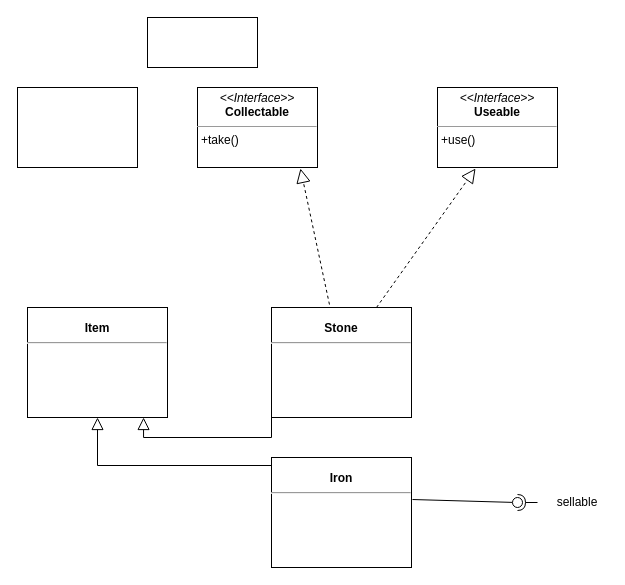
This 625x585 diagram has some shape labels left out. The centre of each missing label's shape, as x and y in pixels:
"<<Interface>> Sellable +sell()" belongs at point (77, 127).
"«interface» Name" belongs at point (202, 42).
